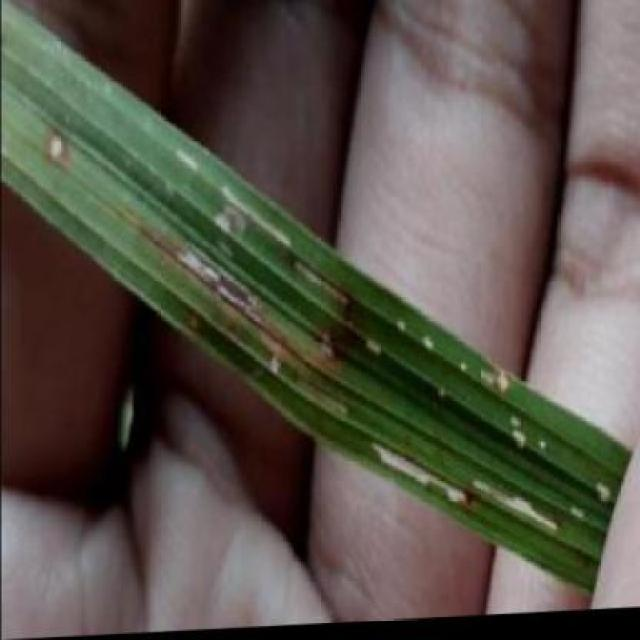Bacterial_Leaf_Blight: (128, 208, 282, 360), (33, 119, 92, 192)
